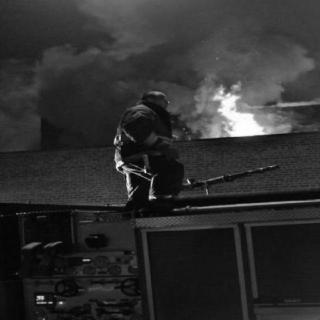Smoke: (99, 8, 303, 82)
